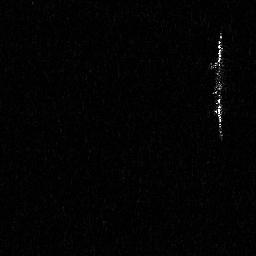ship: (211, 28, 226, 146)
